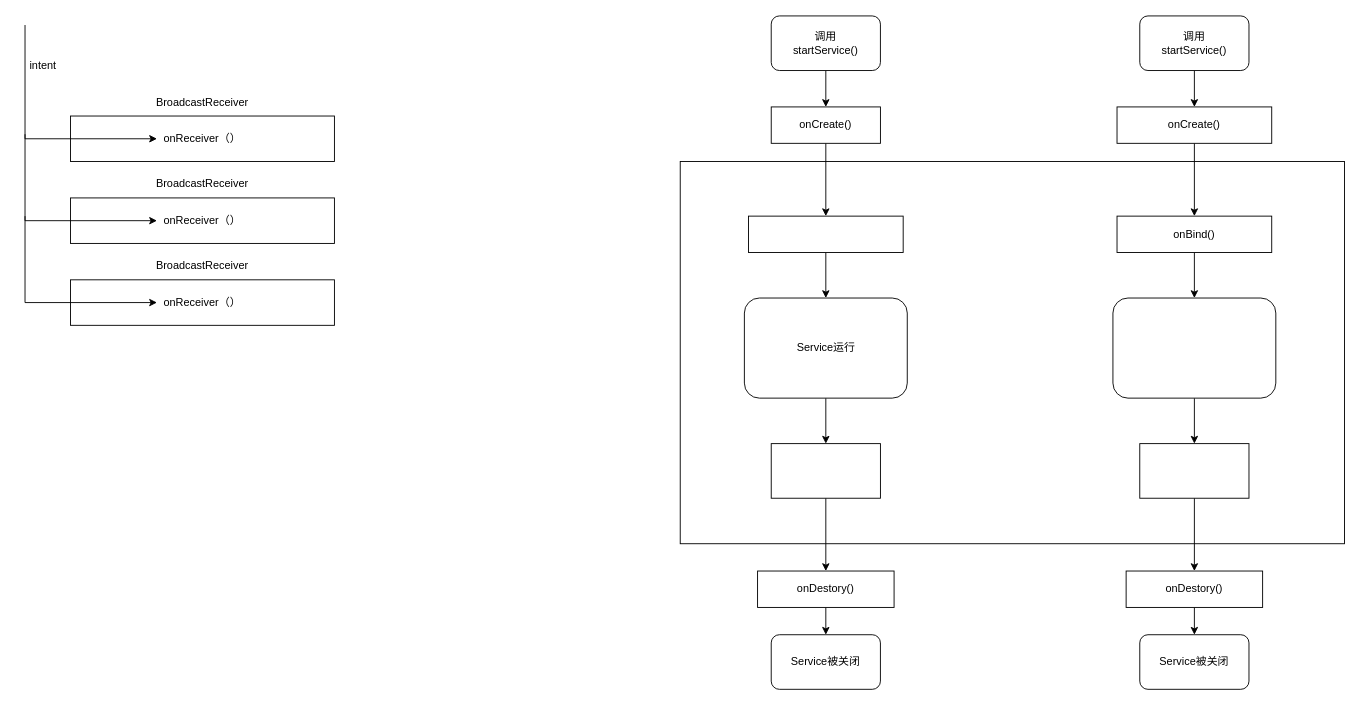
Some shapes in this 1360 by 705 pixel diagram are drawn without their labels. The box of each missing label's shape, as (x1, y1, x2, y2) in pixels:
onStartCommand(): (748, 215, 903, 253)
Service被自己 或调用者停止: (770, 443, 880, 498)
客户端绑定到 Service: (1112, 297, 1276, 398)
调用Unbind() 取消绑定: (1139, 443, 1249, 498)
